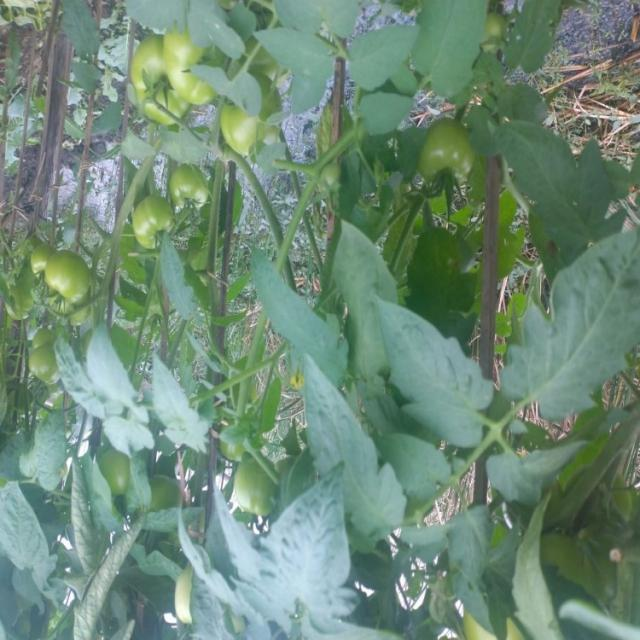tomato: (404, 114, 490, 209), (119, 43, 197, 133), (218, 92, 281, 174), (158, 27, 224, 99), (37, 237, 99, 301), (225, 452, 295, 508), (120, 193, 185, 246), (16, 324, 64, 389), (90, 447, 140, 502), (172, 164, 213, 222)
